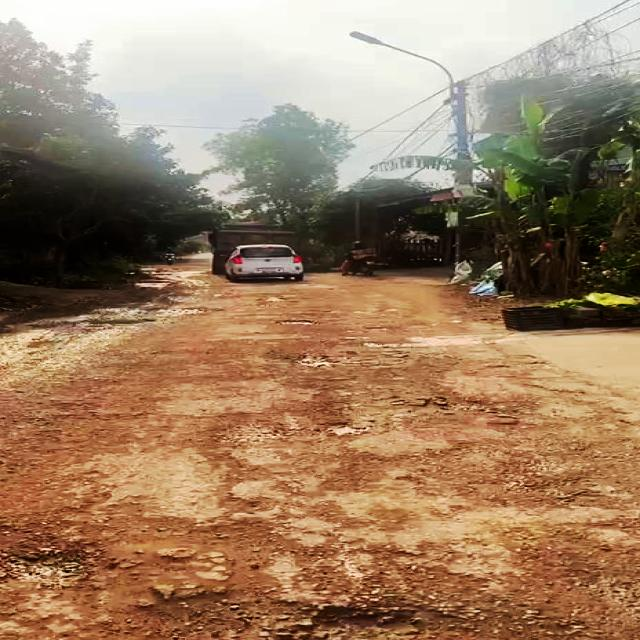pothole: (100, 587, 292, 640), (260, 604, 441, 640), (0, 535, 130, 585), (211, 416, 286, 444), (288, 354, 337, 370), (317, 421, 360, 436)
